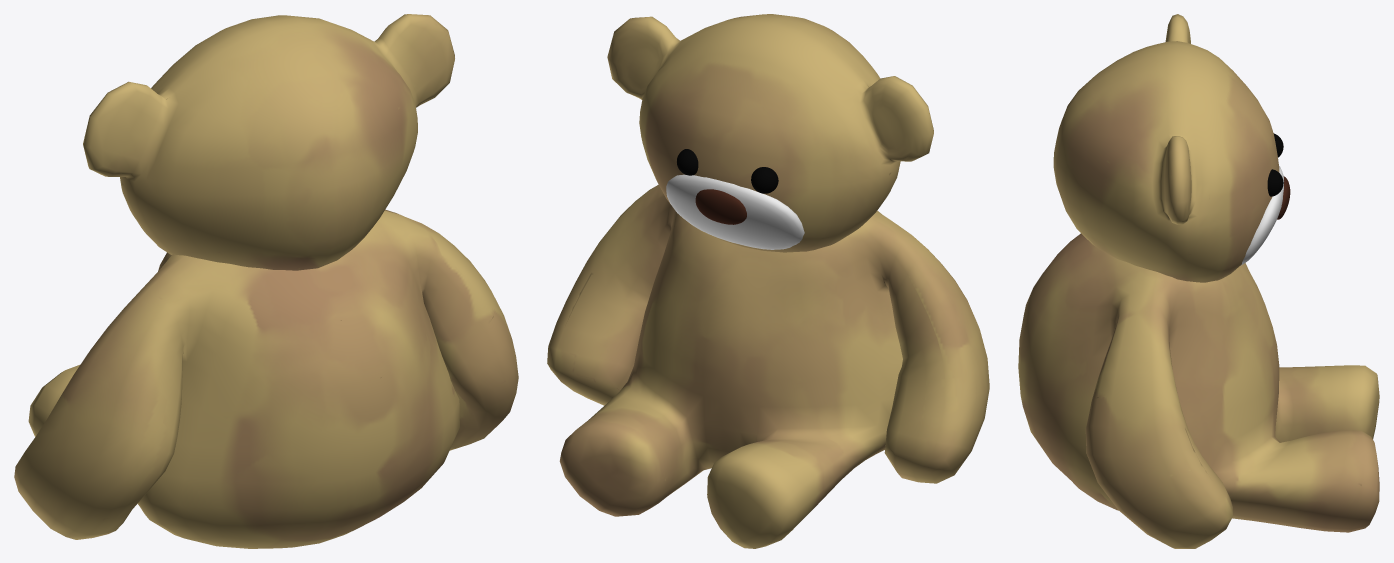
File: teddy.fbx
3 renders of one model, left to right at view 1: azimuth 30°, elevation 25°; view 2: azimuth 150°, elevation 25°; view 3: azimuth 270°, elevation 25°, orthographic. The views are drawn at different scales.
Parts seen in each view (by area): view 1: teddy; view 2: teddy; view 3: teddy.
Boxes of the visible parts, x1,y1,x2,y2 form: teddy: (14, 14, 518, 548); teddy: (547, 14, 989, 548); teddy: (1018, 14, 1379, 548).
Bounding box in the file's own units: 3.75 × 3.87 × 2.86.
Materials: 4 (1 with a texture image).
